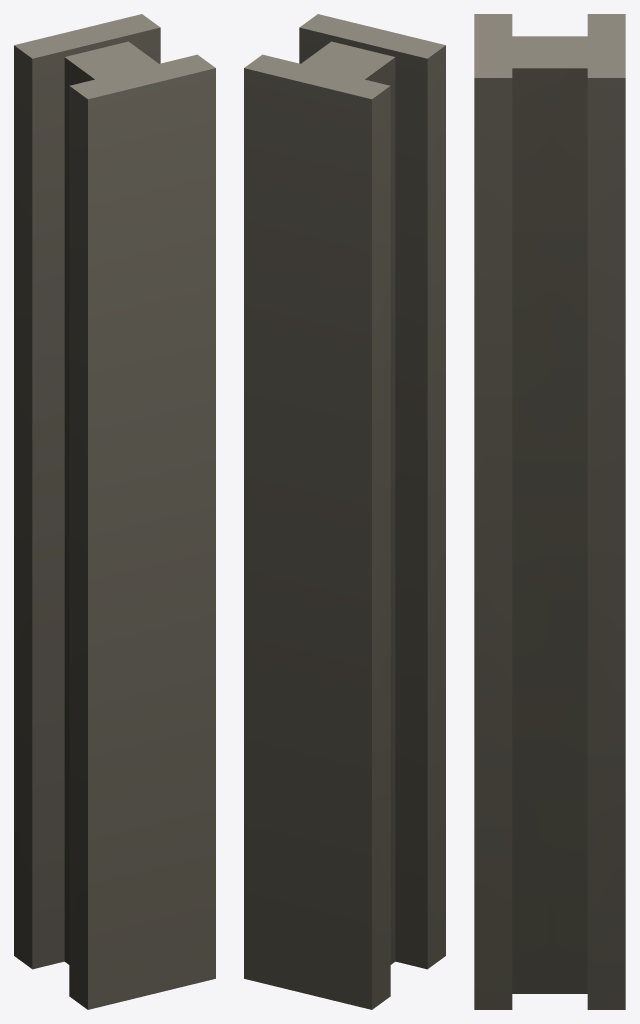
Rendered from Concrete_Fence_1D.fbx.
3 views of the same model, side by side, from view 1: azimuth 30°, elevation 25°; view 2: azimuth 150°, elevation 25°; view 3: azimuth 270°, elevation 25° (orthographic). The views are drawn at different scales.
Parts seen in each view (by area): view 1: Concrete_Fence_1D; view 2: Concrete_Fence_1D; view 3: Concrete_Fence_1D.
Boxes of the visible parts, <box> form: Concrete_Fence_1D: <box>14,14,215,1009</box>; Concrete_Fence_1D: <box>244,14,445,1009</box>; Concrete_Fence_1D: <box>474,14,625,1009</box>.
Size of the model in its own units: 0.4 by 2.72 by 0.4.
